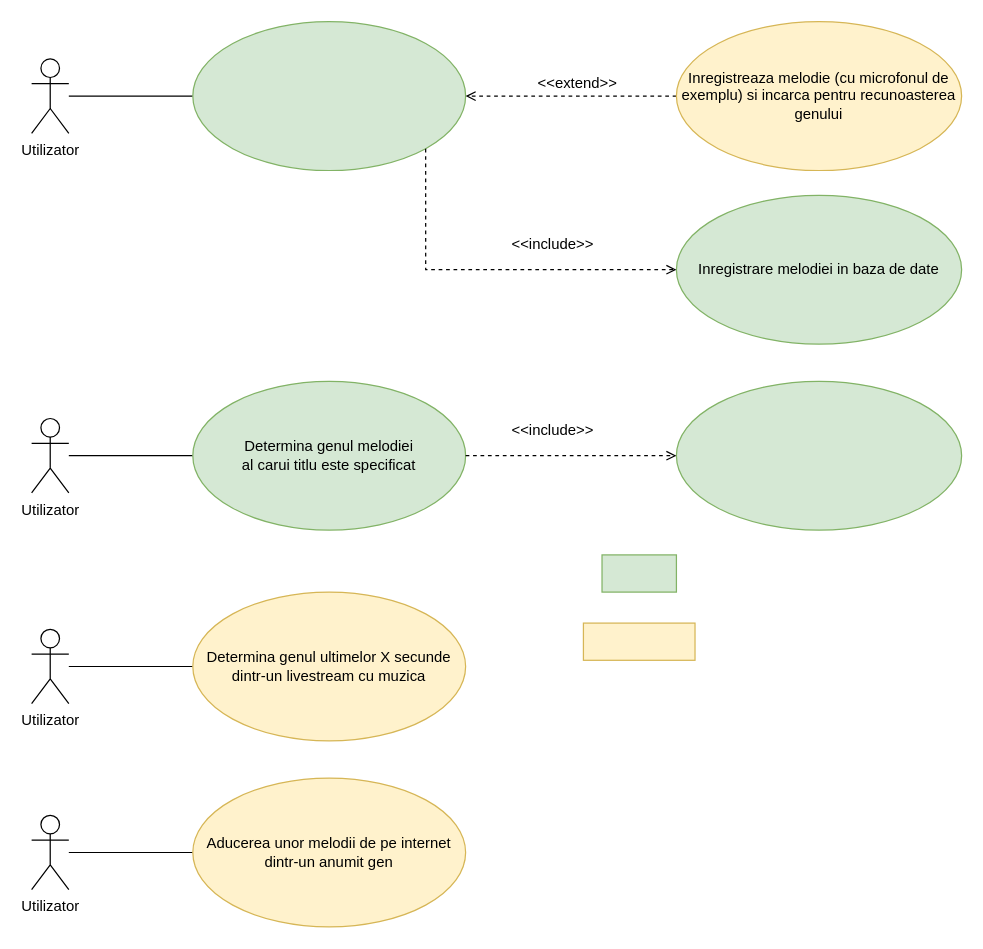
This 983x949 diagram has some shape labels left out. The shapes that lost their labels are listed below. From the top down, each one's centre as x and y in pixels, then its label:
At [329,95]: "Incarca melodie pentru recunoasterea genului".
At [818,455]: "Cautare in baza de date dupa nume in baza de date".
At [638,573]: "Must have".
At [638,641]: "Nice to have".
